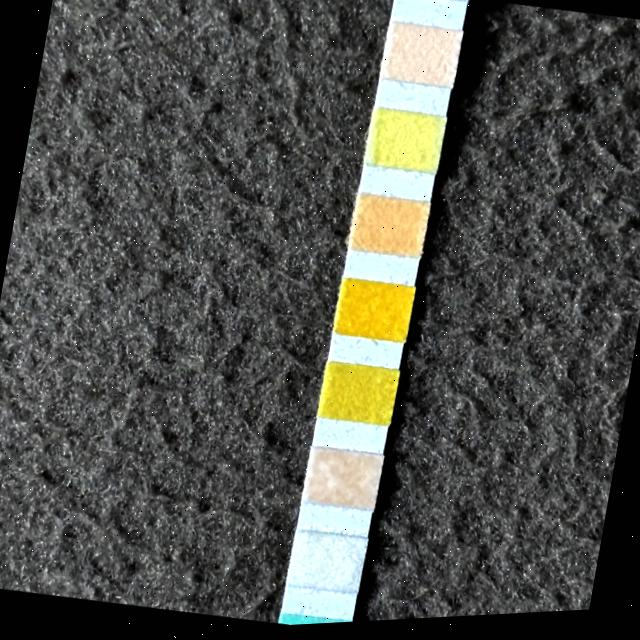Bilirubin: (287, 529, 365, 597)
Blood: (334, 278, 411, 347)
Glucose: (279, 612, 350, 629)
Ketone: (302, 446, 381, 515)
Protein: (362, 106, 444, 181)
SpGravity: (318, 361, 397, 430)
Urobilinogen: (382, 23, 462, 93)
pH: (349, 195, 428, 264)
